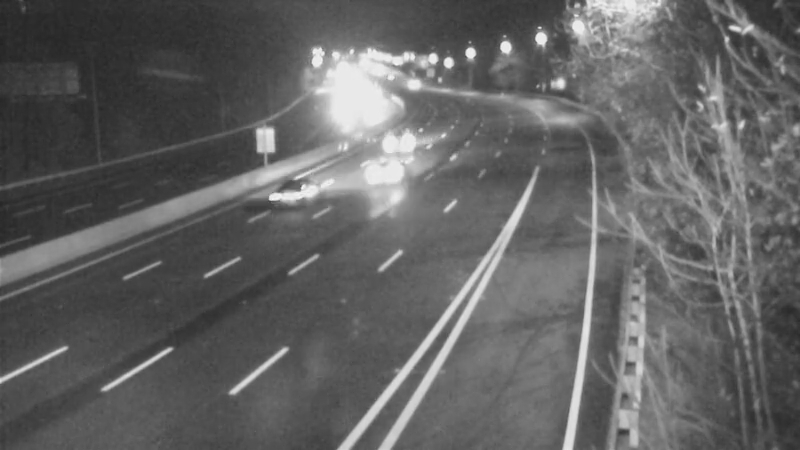vehicle: (343, 137, 423, 217), (254, 146, 334, 226), (389, 58, 439, 108), (373, 113, 423, 163)
